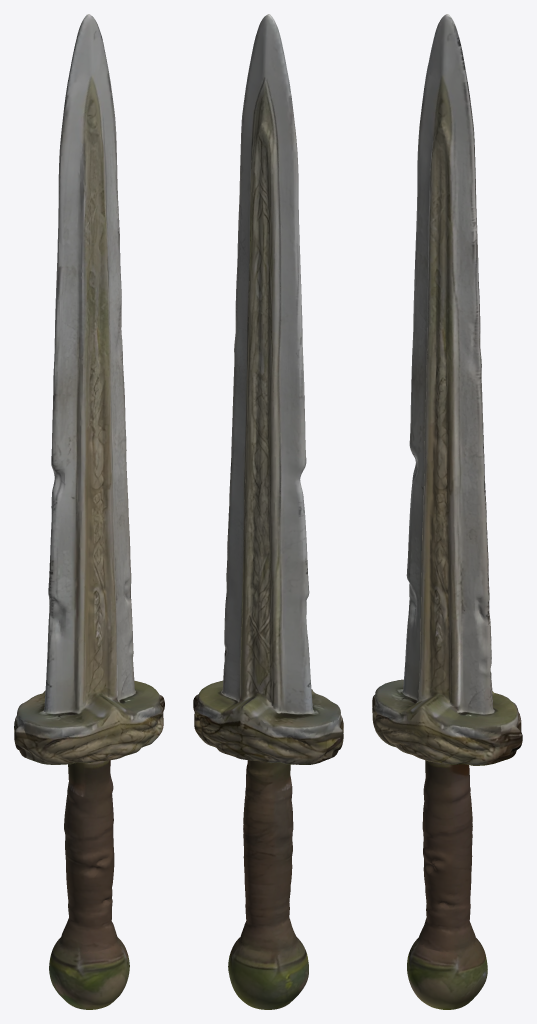
The model's file is spatha.glb.
3 views of the same model, side by side, from view 1: azimuth 30°, elevation 25°; view 2: azimuth 150°, elevation 25°; view 3: azimuth 330°, elevation 25° (orthographic).
Parts seen in each view (by area): view 1: tripo_node_b65a64f3-57bb-461f-84b7-a9052c8abf35; view 2: tripo_node_b65a64f3-57bb-461f-84b7-a9052c8abf35; view 3: tripo_node_b65a64f3-57bb-461f-84b7-a9052c8abf35.
Part boxes in pixels (box(x1,y1,x2,y2)): tripo_node_b65a64f3-57bb-461f-84b7-a9052c8abf35: box(14, 14, 164, 1009); tripo_node_b65a64f3-57bb-461f-84b7-a9052c8abf35: box(193, 14, 343, 1009); tripo_node_b65a64f3-57bb-461f-84b7-a9052c8abf35: box(372, 14, 522, 1009).
Bounding box in the file's own units: 0.158 × 1 × 0.1008.
1 material, 1 textured.
